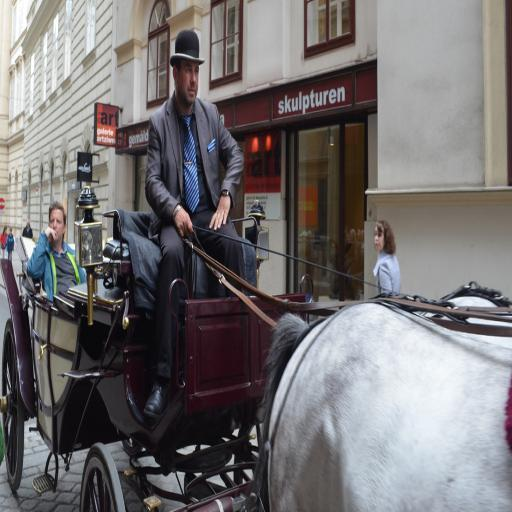horse: (239, 298, 512, 512), (418, 286, 512, 344)
